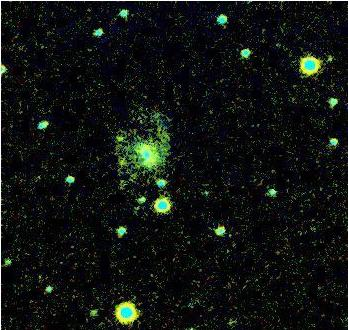star: (107, 125, 137, 155)
